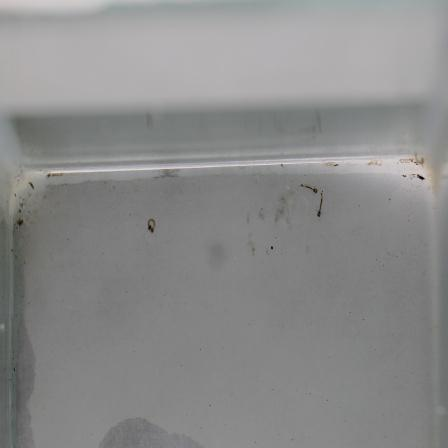Jentik-Nyamuk: (296, 178, 327, 221), (142, 212, 159, 241)
